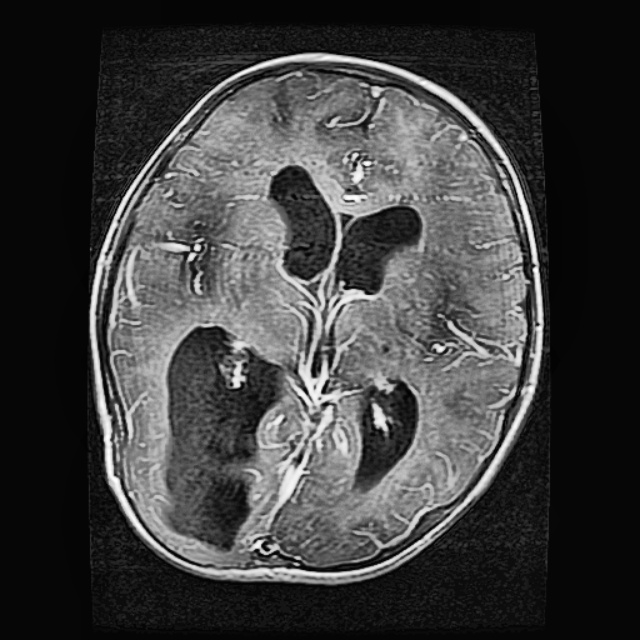Glioma: (164, 319, 284, 547)
